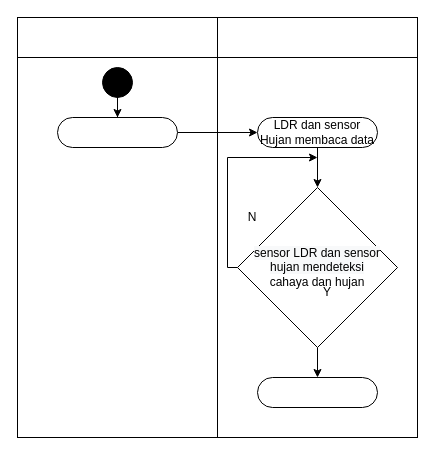
The diagram is 435 pixels wide and 455 high, and some of its shapes have lost their labels. The shapes that lost their labels are listed below. From the top down, each one's box as (x1, y1, x2, y2) in pixels, then its label:
(56, 116, 178, 148): Koneksi alat ke sumber tegangan
(256, 376, 378, 408): rak keluar
